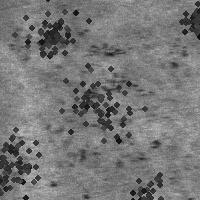rolled-in_scale: (43, 50, 151, 158), (43, 119, 164, 167), (12, 0, 88, 72), (56, 41, 141, 102), (0, 117, 51, 200), (108, 157, 188, 200), (174, 0, 200, 40)
